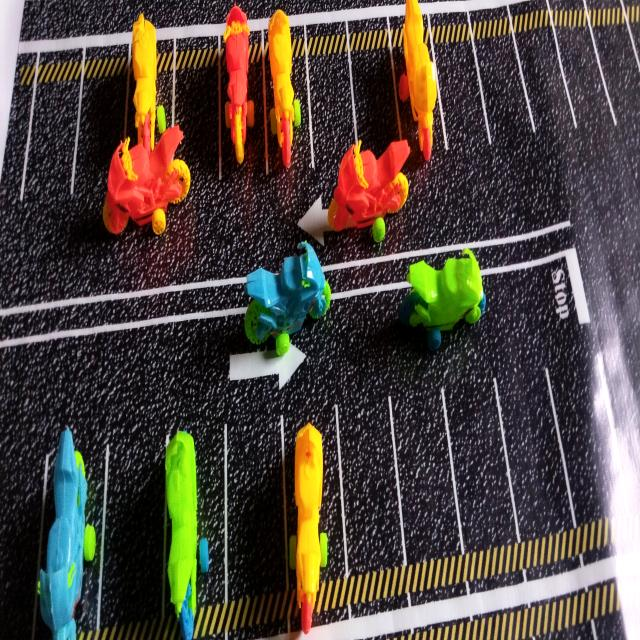bikes: (245, 242, 330, 355), (104, 126, 189, 234), (400, 248, 484, 346), (328, 139, 410, 231)
occupied: (36, 428, 109, 640), (281, 406, 347, 633), (165, 420, 229, 640), (217, 5, 269, 187), (391, 0, 449, 160), (267, 10, 312, 171), (124, 13, 172, 148)
slots: (549, 348, 621, 525), (100, 434, 165, 626), (500, 369, 572, 538), (391, 396, 460, 563), (450, 378, 516, 550), (340, 396, 403, 573), (228, 414, 285, 599), (0, 451, 44, 640), (24, 80, 80, 205), (516, 26, 576, 136), (309, 50, 355, 190), (76, 79, 125, 208), (593, 7, 640, 140), (434, 43, 487, 160), (559, 29, 614, 139), (475, 37, 528, 143), (175, 55, 218, 176), (351, 48, 397, 157)
